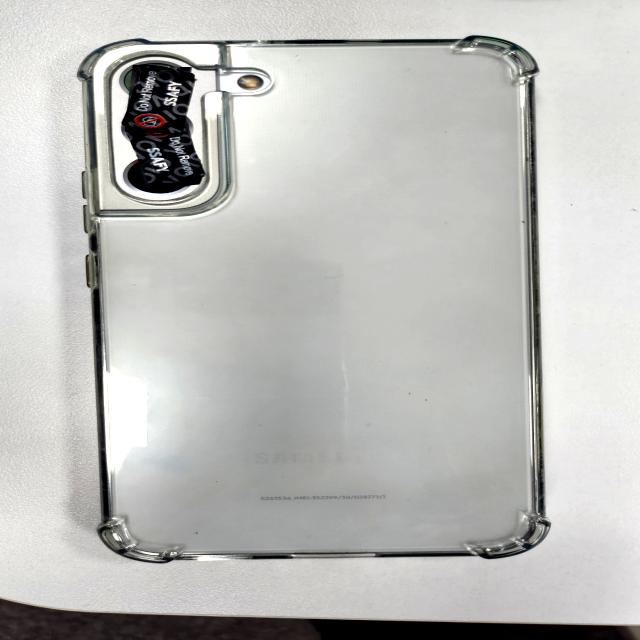phone: (76, 37, 560, 563)
removed_sticker: (127, 65, 189, 134), (127, 132, 205, 186)
